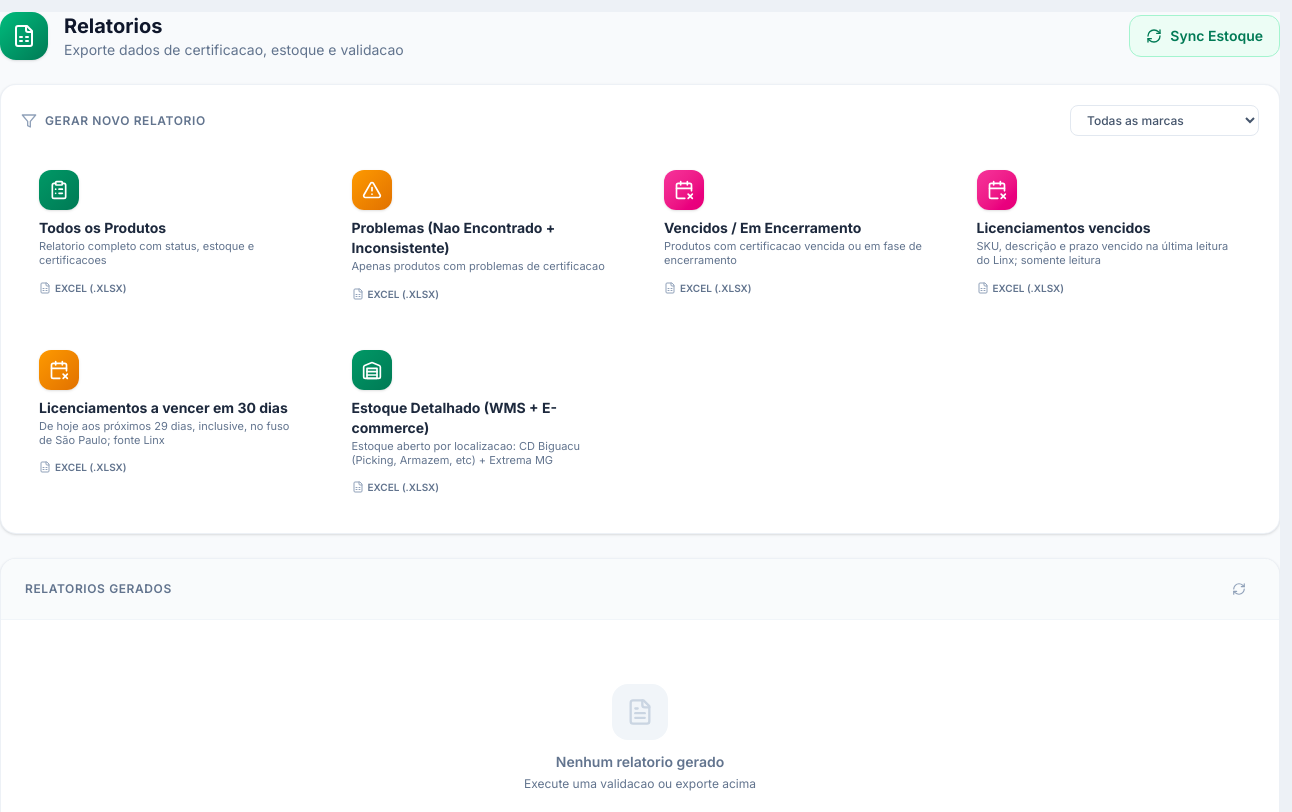
CertRelatoriosPage › exportacao sem produtos › avisa que o filtro nao tem produtos em vez de dizer so "exportado"
This screenshot has width=1292, height=812.
Select "Imaginarium" in the dropdown named "Filtrar marca" at (1164, 120), box [1070, 105, 1259, 136]
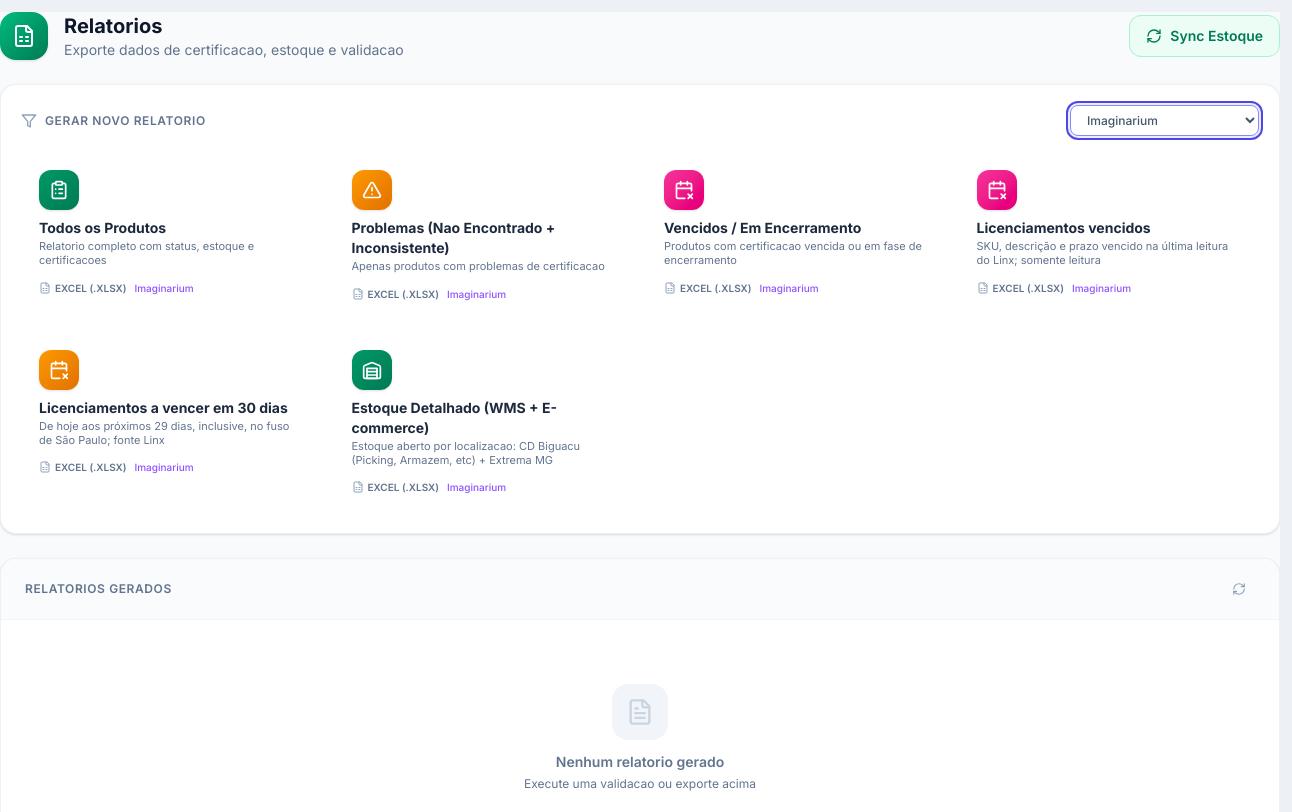
Click the text "Vencidos / Em Encerramento" at (763, 228), box [664, 219, 861, 236]
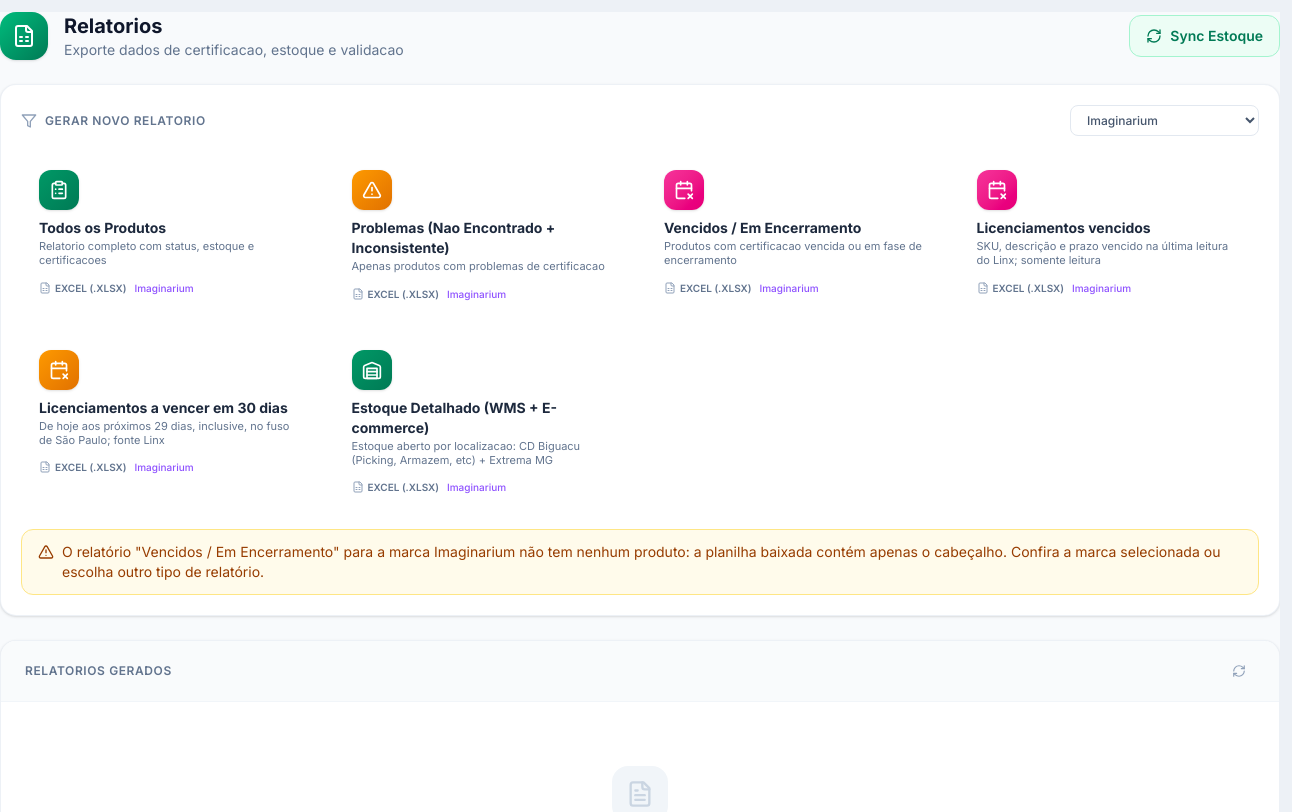
expect the message shows "Vencidos / Em Encerramento": met, box [62, 543, 1220, 580]
expect the message shows "Imaginarium": met, box [62, 543, 1220, 580]
expect the message shows "apenas o cabeçalho": met, box [62, 543, 1220, 580]
